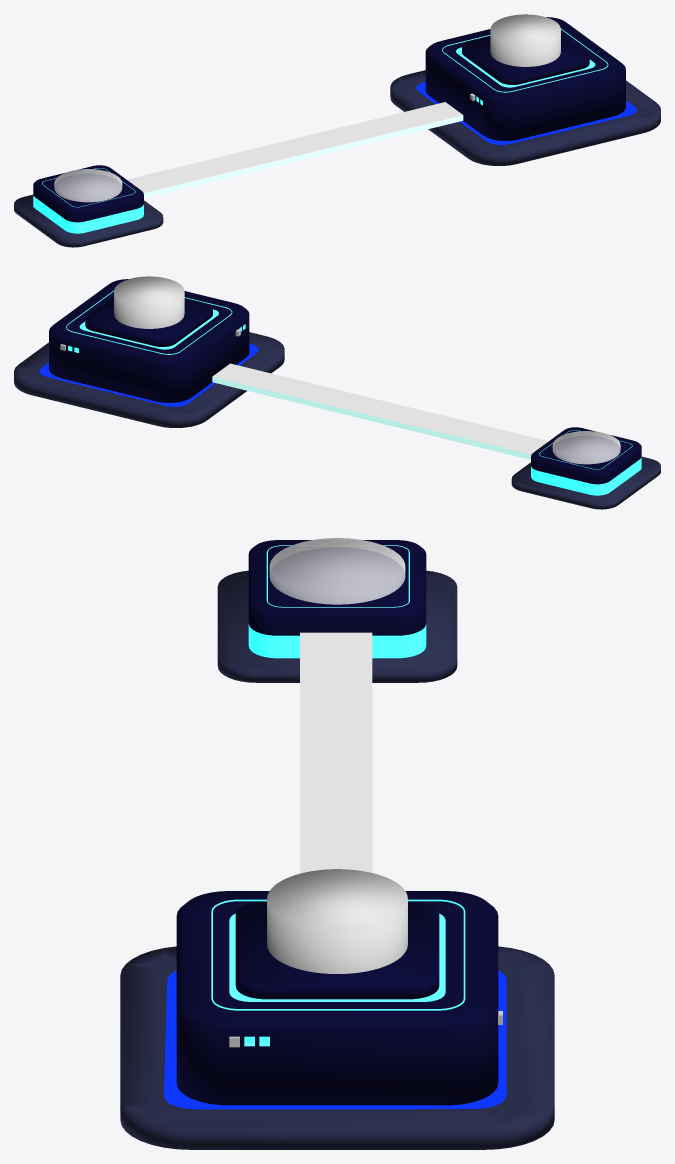
3 renders of one model, top to bottom at view 1: azimuth 30°, elevation 25°; view 2: azimuth 150°, elevation 25°; view 3: azimuth 270°, elevation 25°, orthographic. The views are drawn at different scales.
Visible parts, largest first — view 1: Lit_up_face, Cube.001, Cube, Cube.010, Cylinder.001, Cube.002, Cube.008, Cube.012, Cylinder.003, Cylinder.004, Cube.009, Cube.011 (+2 smaller); view 2: Lit_up_face, Cube.001, Cube, Cube.010, Cylinder.001, Cube.002, Cube.008, Cube.012, Cylinder.003, Cylinder.004, Cube.009, Cube.011 (+2 smaller); view 3: Lit_up_face, Cube.001, Cube, Cube.010, Cylinder.001, Cube.002, Cube.008, Cylinder.003, Cylinder.004, Cube.011, Cube.009, Cube.007 (+1 smaller).
Part boxes in pixels (x1,y1,x2,y2): Lit_up_face: (425, 17, 625, 140); Cube.001: (390, 70, 660, 165); Cube: (127, 102, 462, 192); Cube.010: (33, 165, 143, 222); Cylinder.001: (490, 14, 560, 66); Cube.002: (462, 35, 589, 84); Cube.008: (14, 194, 163, 247); Cube.012: (143, 115, 463, 198); Cylinder.003: (54, 169, 122, 202); Cylinder.004: (54, 169, 121, 201); Cube.009: (33, 195, 143, 233); Cube.011: (416, 82, 636, 144); Lit_up_face: (49, 279, 249, 402); Cube.001: (14, 332, 284, 427); Cube: (212, 363, 548, 454); Cube.010: (531, 427, 641, 484); Cylinder.001: (114, 276, 184, 328); Cube.002: (85, 297, 212, 346); Cube.008: (511, 456, 660, 509); Cube.012: (212, 377, 531, 459); Cylinder.003: (552, 431, 620, 464); Cylinder.004: (553, 431, 620, 463); Cube.009: (531, 457, 641, 495); Cube.011: (39, 343, 258, 406); Lit_up_face: (176, 891, 498, 1105); Cube.001: (120, 946, 554, 1149); Cube: (300, 632, 372, 873); Cube.010: (248, 540, 426, 635); Cylinder.001: (267, 869, 407, 973); Cube.002: (235, 901, 439, 999); Cube.008: (217, 570, 457, 682); Cylinder.003: (269, 538, 405, 604); Cylinder.004: (269, 538, 405, 604); Cube.011: (163, 971, 506, 1109); Cube.009: (248, 624, 426, 658); Cube.007: (229, 913, 445, 1001).
Size of what is drawn, in the model's own units: 19.34 by 2.54 by 6.24.
